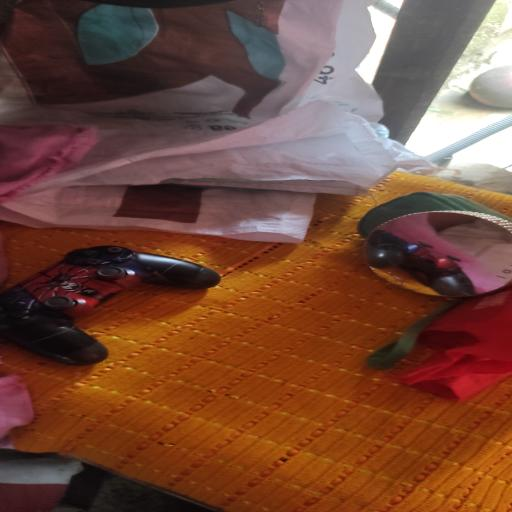ControlPlay4: (0, 245, 220, 366)
